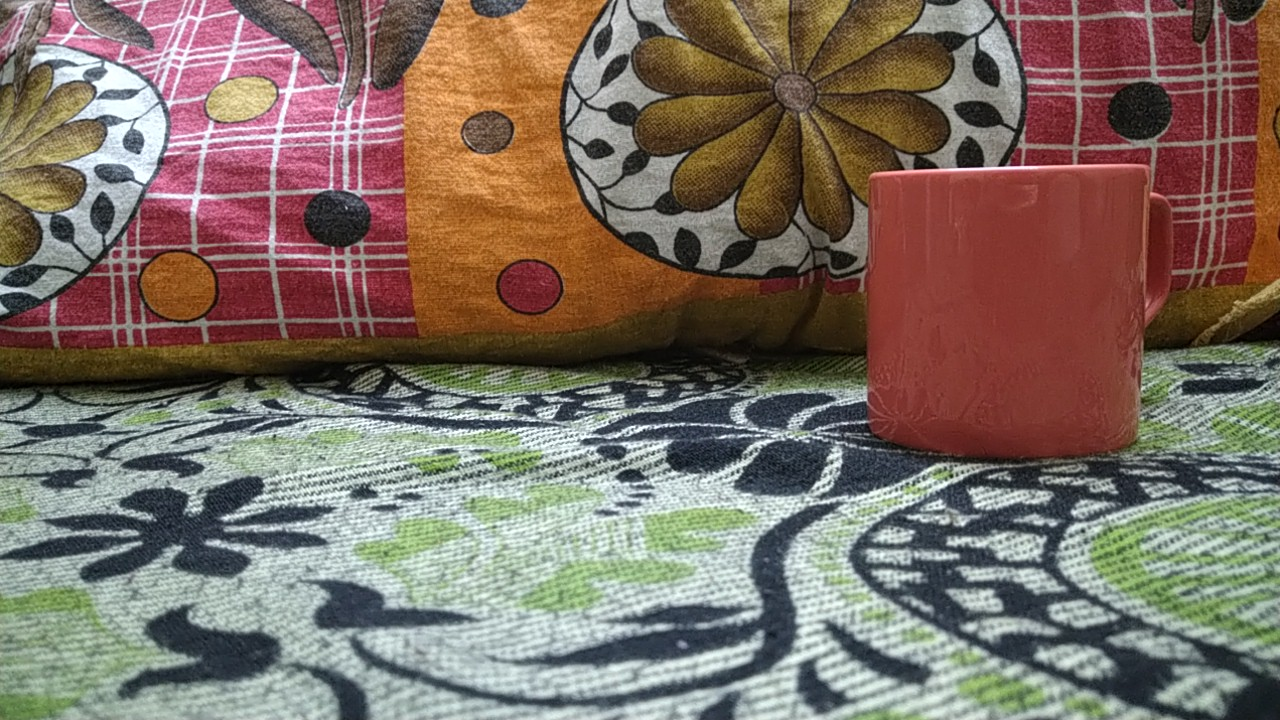cup: (854, 152, 1180, 479)
